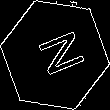N_W: (26, 27, 84, 83)
